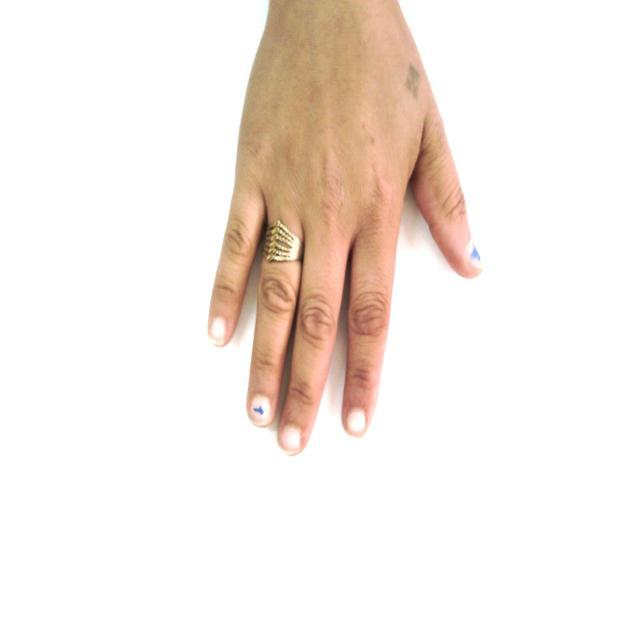Fingernail: (250, 396, 272, 426), (279, 425, 300, 455), (346, 407, 365, 436), (464, 242, 483, 268), (209, 316, 226, 345)
